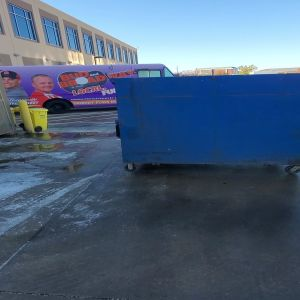Dumpster: (108, 76, 300, 176)
Person: (31, 73, 57, 98), (2, 71, 24, 91)
